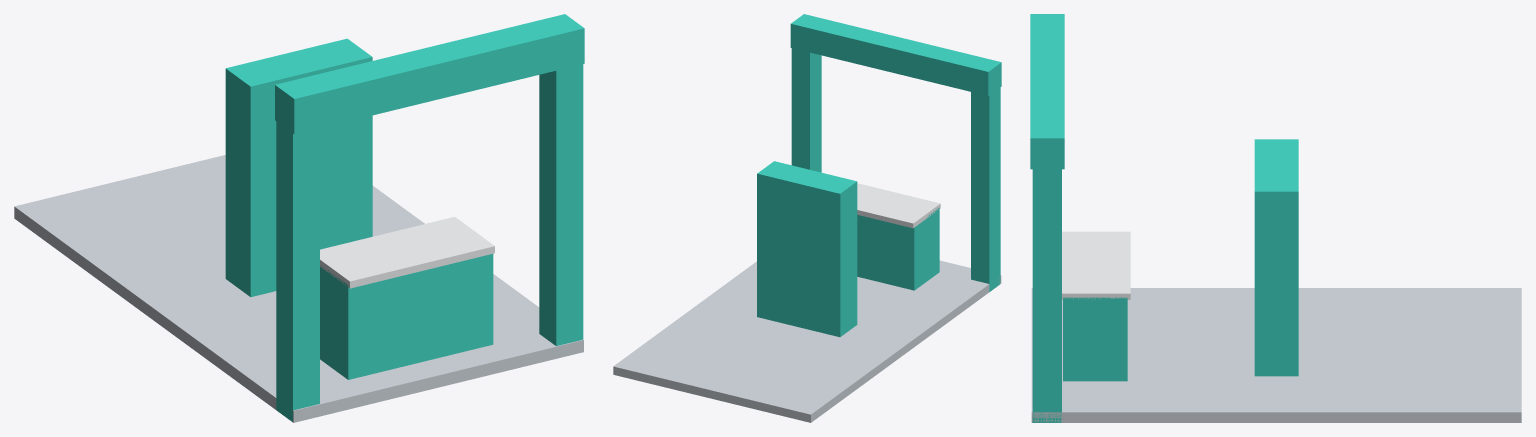
3 renders of one model, left to right at view 1: azimuth 30°, elevation 25°; view 2: azimuth 150°, elevation 25°; view 3: azimuth 270°, elevation 25°, orthographic. The views are drawn at different scales.
Visible parts, largest first — view 1: Exhibition Booth Concept; view 2: Exhibition Booth Concept; view 3: Exhibition Booth Concept.
Boxes of the visible parts, box(x1,y1,x2,y2) form: Exhibition Booth Concept: box(14, 14, 584, 422); Exhibition Booth Concept: box(613, 14, 1001, 422); Exhibition Booth Concept: box(1030, 14, 1521, 422).
Bounding box in the file's own units: 3 × 3.2 × 5.02.
